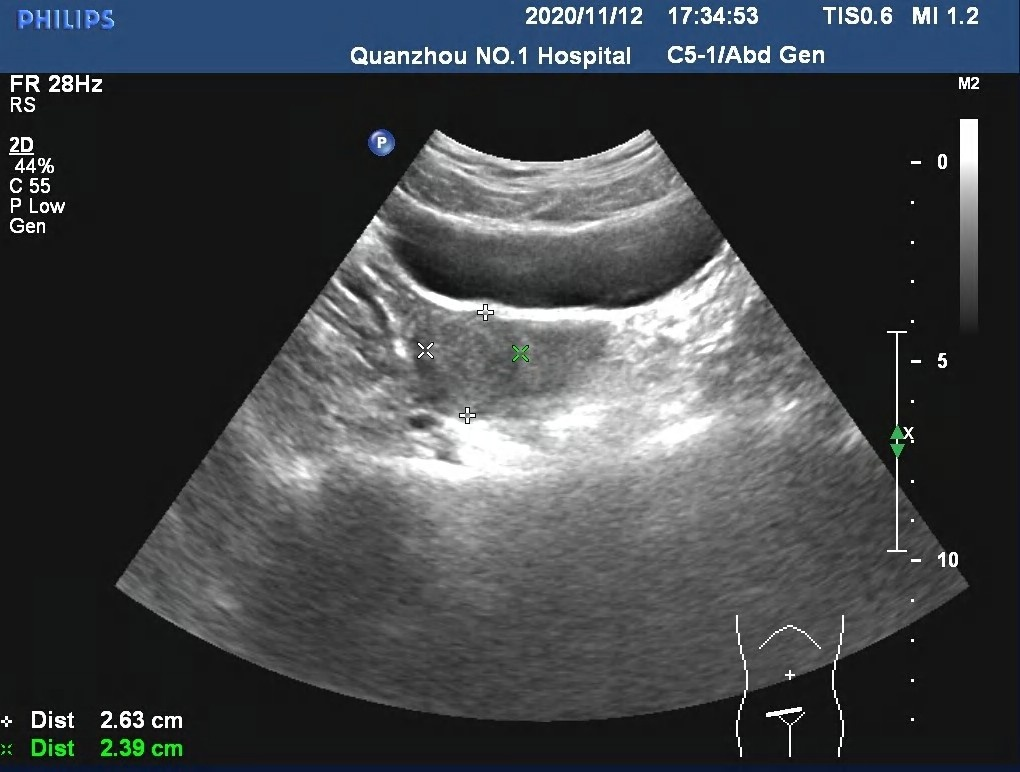肌瘤: (420, 312, 521, 415)
